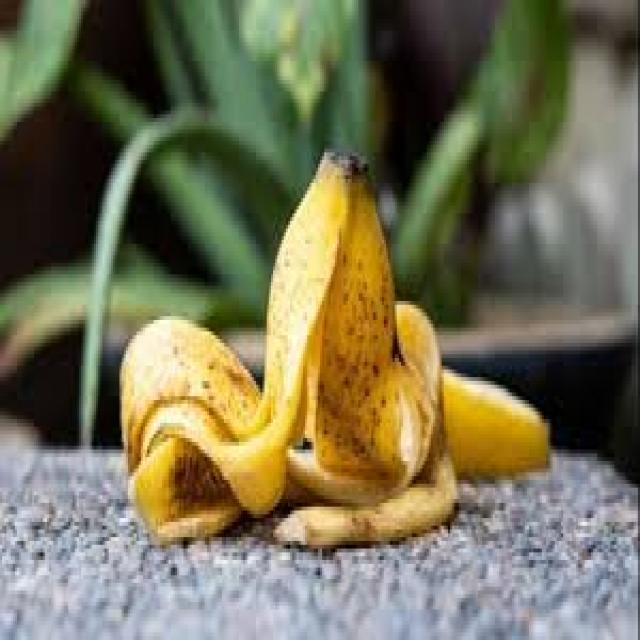Cascara de banano: (122, 142, 556, 543)
